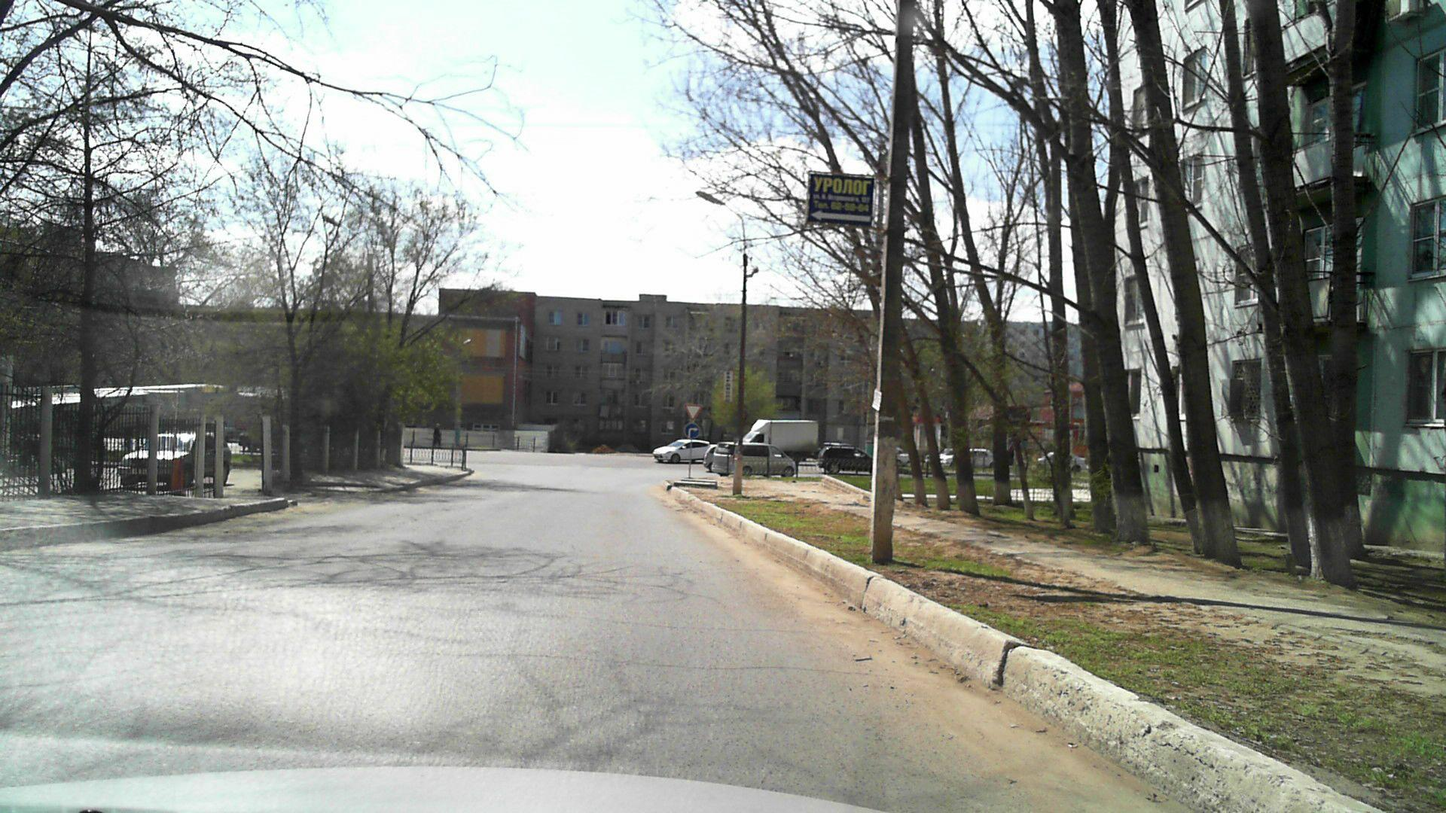road_sign: (683, 403, 703, 420), (684, 422, 700, 439)
